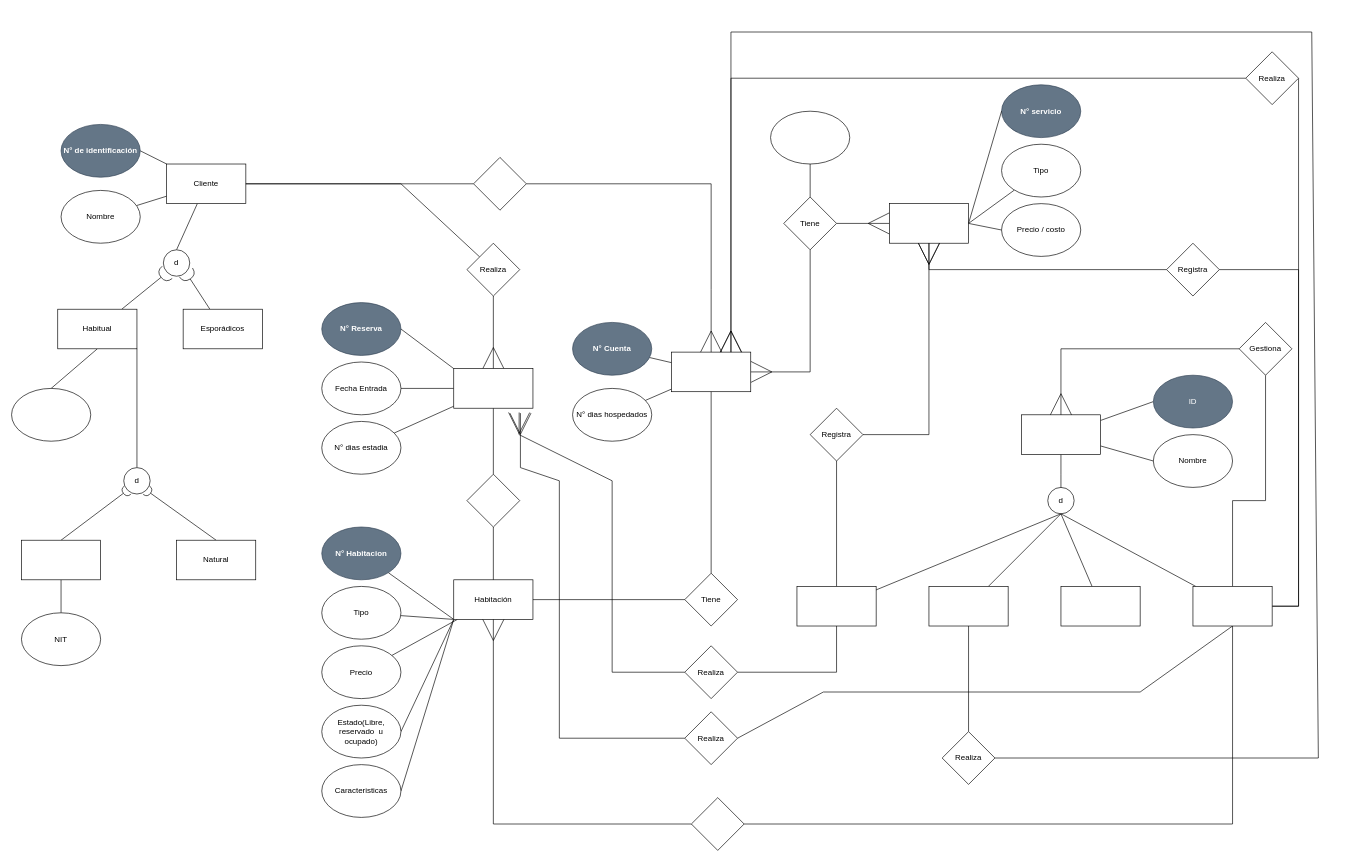
Some shapes in this 1351 by 862 pixel diagram are drawn without their labels. The centre of each missing label's shape, as x and y in pixels:
Administra: pixel 717 823
Administrador: pixel 1232 606
Cajero: pixel 968 606
Corporativo: pixel 61 560
Cuenta: pixel 711 371
Cuenta con: pixel 493 500
Descuento: pixel 51 414
Empleado: pixel 1061 434
Fecha y hora: pixel 810 137
Gerente: pixel 1100 606
paga: pixel 499 183
Recepcionista: pixel 836 606
Reserva: pixel 493 388
Servicio: pixel 929 223
